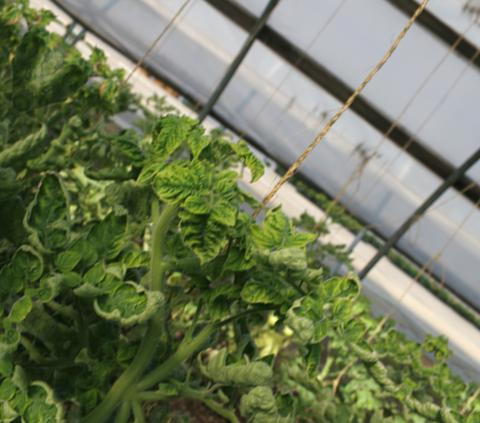Tomato leaf yellow virus: (226, 191, 324, 292), (5, 164, 99, 259), (80, 256, 176, 348), (146, 145, 239, 234), (231, 262, 300, 327)
